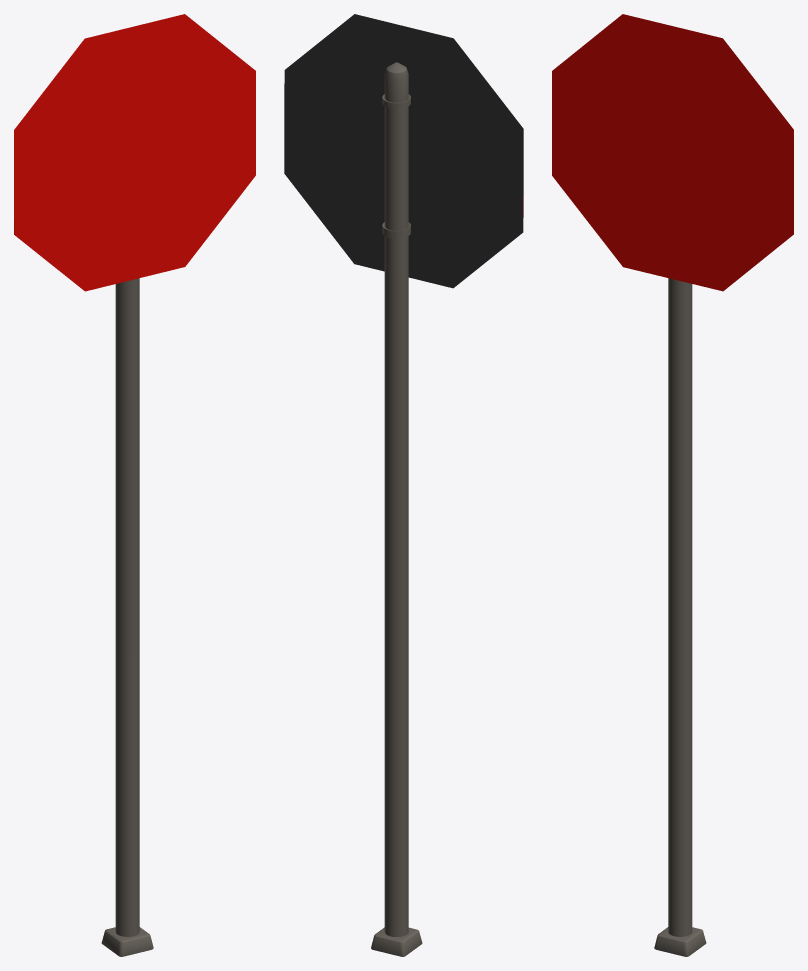
The model's file is street_sign1.fbx.
3 views of the same model, side by side, from view 1: azimuth 30°, elevation 25°; view 2: azimuth 150°, elevation 25°; view 3: azimuth 330°, elevation 25° (orthographic).
Visible parts, largest first — view 1: Sign_1; view 2: Sign_1; view 3: Sign_1.
Part boxes in pixels (left/top/right/bottom): Sign_1: left=14, top=14, right=255, bottom=956; Sign_1: left=284, top=14, right=523, bottom=956; Sign_1: left=552, top=14, right=793, bottom=956.
Bounding box in the file's own units: 95.18 × 348 × 13.67.
